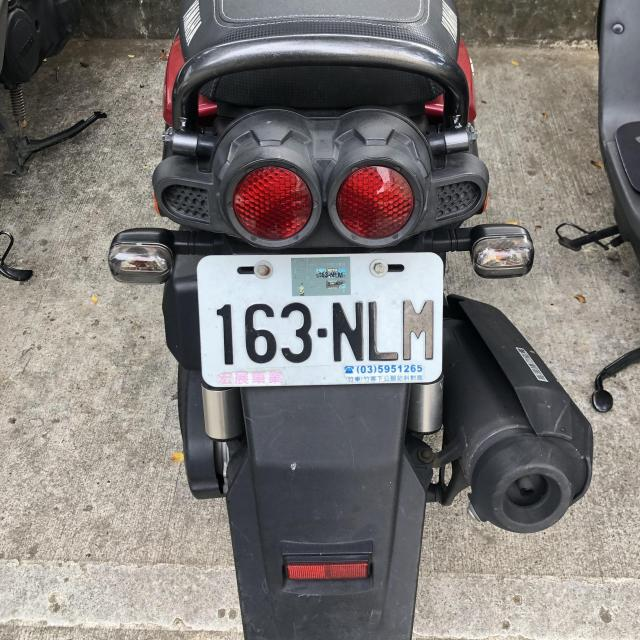W: (196, 250, 443, 388)
